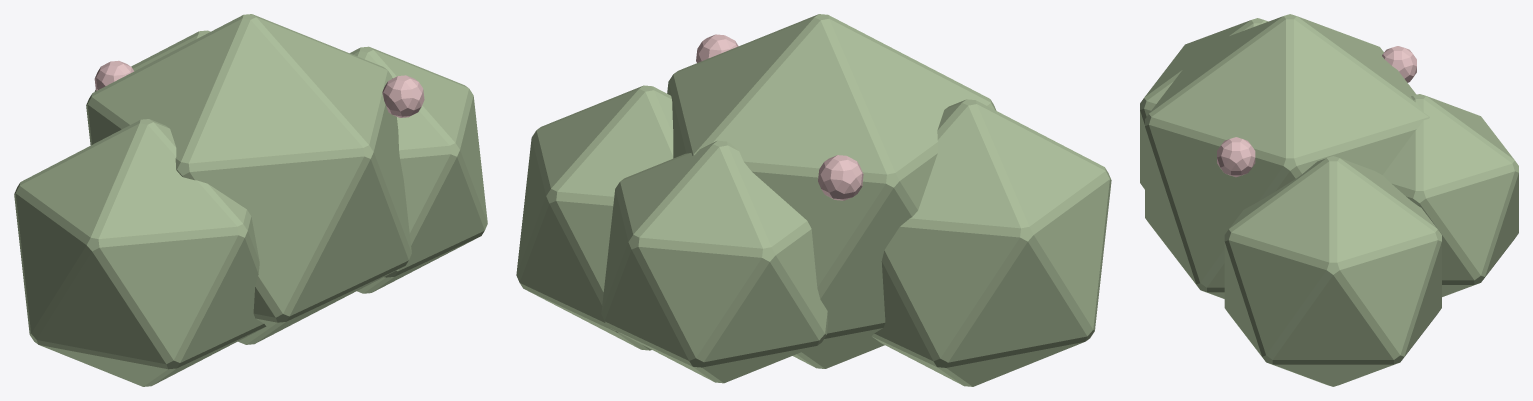
The model's file is SM_Bush_01.fbx.
The picture shows the model from 3 angles, left to right: view 1: azimuth 30°, elevation 25°; view 2: azimuth 150°, elevation 25°; view 3: azimuth 270°, elevation 25°; orthographic projection. The views are drawn at different scales.
Parts seen in each view (by area): view 1: Bush_01; view 2: Bush_01; view 3: Bush_01.
Boxes of the visible parts, left/top/right/bottom form: Bush_01: left=14, top=14, right=487, bottom=386; Bush_01: left=516, top=14, right=1111, bottom=386; Bush_01: left=1140, top=14, right=1518, bottom=386.
Bounding box in the file's own units: 96.12 × 62.06 × 70.26.
